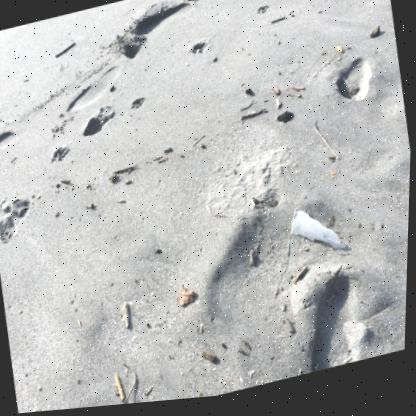Plastic: (293, 216, 347, 255), (331, 176, 337, 181)
